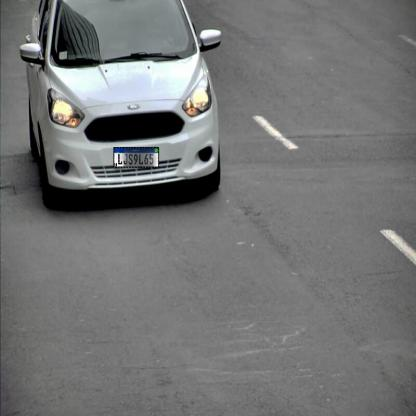PlacaM: (113, 147, 159, 168)
